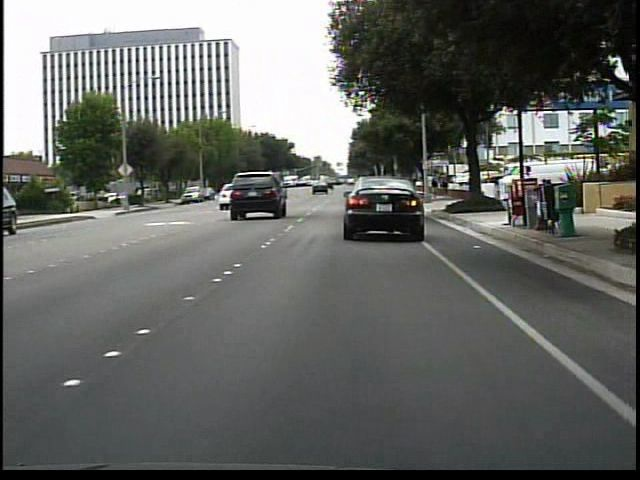person: (429, 177, 440, 201), (440, 177, 450, 200)
